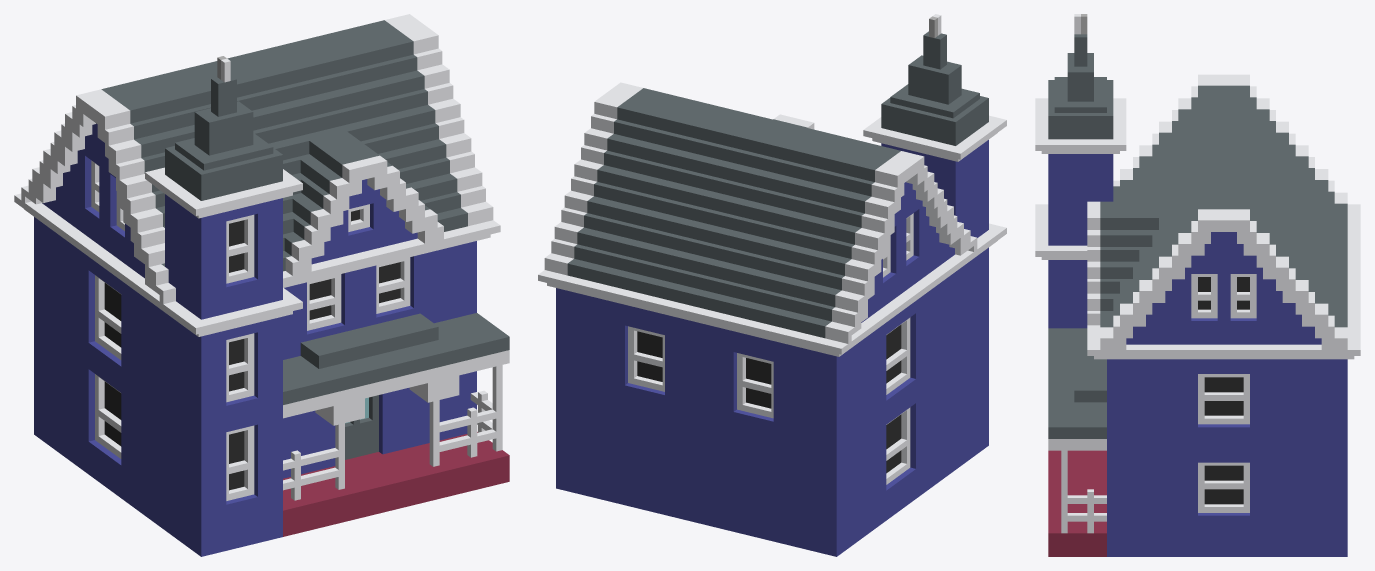
The model's file is House3FBX.fbx.
The picture shows the model from 3 angles, left to right: view 1: azimuth 30°, elevation 25°; view 2: azimuth 150°, elevation 25°; view 3: azimuth 270°, elevation 25°; orthographic projection. The views are drawn at different scales.
Visible parts, largest first — view 1: House3v1; view 2: House3v1; view 3: House3v1.
Boxes of the visible parts, bbox=[...] form: House3v1: bbox=[14, 14, 509, 556]; House3v1: bbox=[538, 14, 1006, 556]; House3v1: bbox=[1035, 14, 1360, 556].
Bounding box in the file's own units: 530 × 720 × 500.
Materials: 1 (1 with a texture image).
